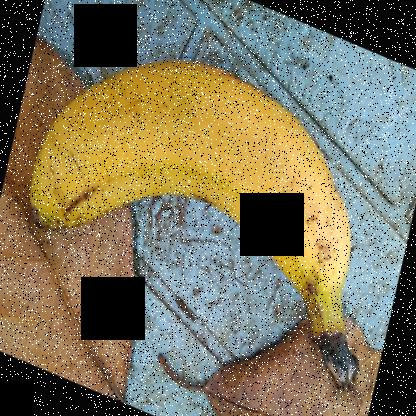freshripe: (28, 41, 353, 315)
